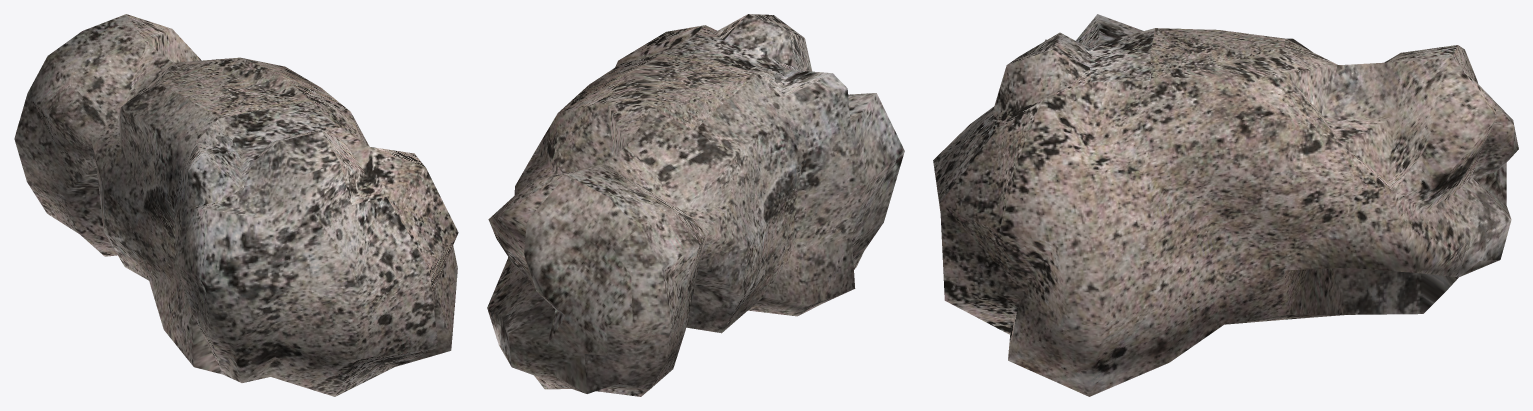
Rendered from Rock_2x5_A.FBX.
3 renders of one model, left to right at view 1: azimuth 30°, elevation 25°; view 2: azimuth 150°, elevation 25°; view 3: azimuth 270°, elevation 25°, orthographic. The views are drawn at different scales.
Visible parts, largest first — view 1: Rock_2x5_A; view 2: Rock_2x5_A; view 3: Rock_2x5_A.
Part boxes in pixels (<box>): Rock_2x5_A: <box>14,14,458,396</box>; Rock_2x5_A: <box>487,14,904,396</box>; Rock_2x5_A: <box>933,14,1518,396</box>.
Size of the model in its own units: 3.32 by 2.93 by 5.53.
Materials: 1 (1 with a texture image).
